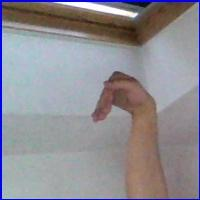del: (88, 66, 153, 132)
